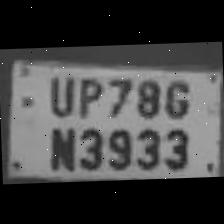3: (157, 120, 191, 170), (129, 121, 161, 169), (73, 122, 103, 170)
7: (100, 71, 132, 117)
8: (130, 74, 161, 116)
9: (100, 122, 132, 170)
G: (160, 66, 194, 116)
N: (42, 121, 76, 171)
P: (72, 70, 104, 118)
U: (40, 71, 74, 119)
